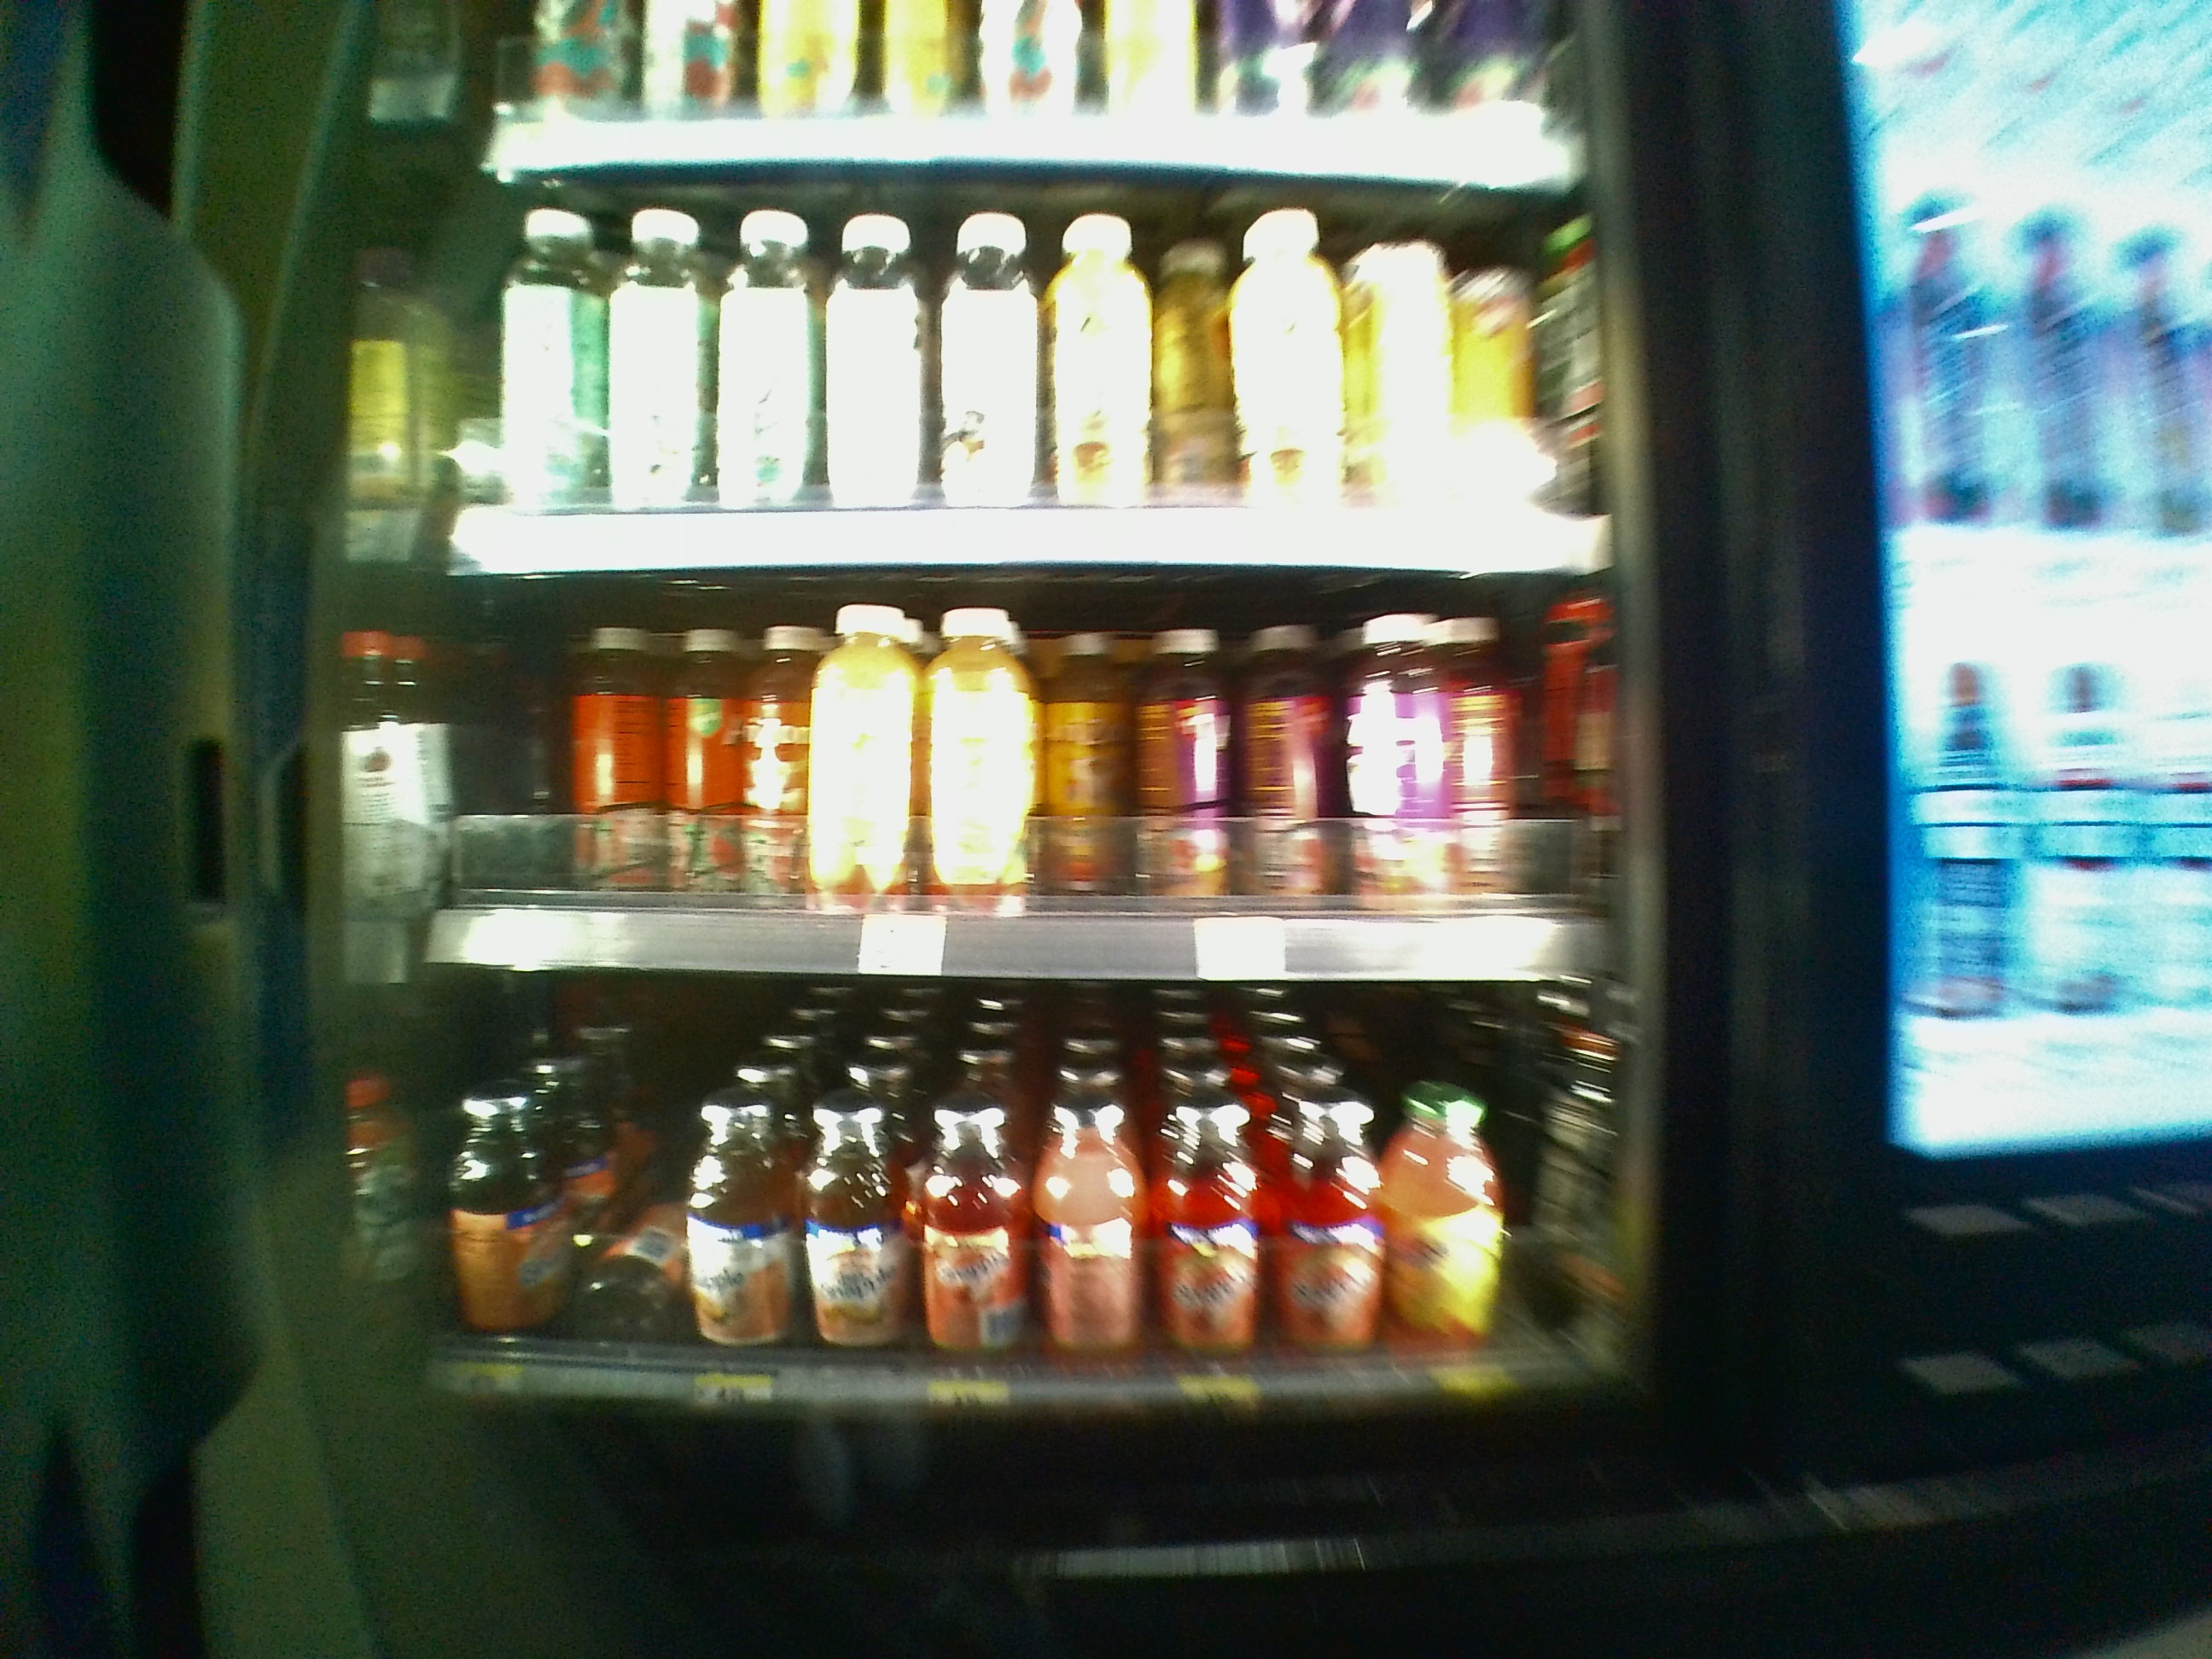shelf: (435, 995, 1622, 1450), (435, 586, 1604, 985), (456, 169, 1604, 572)
